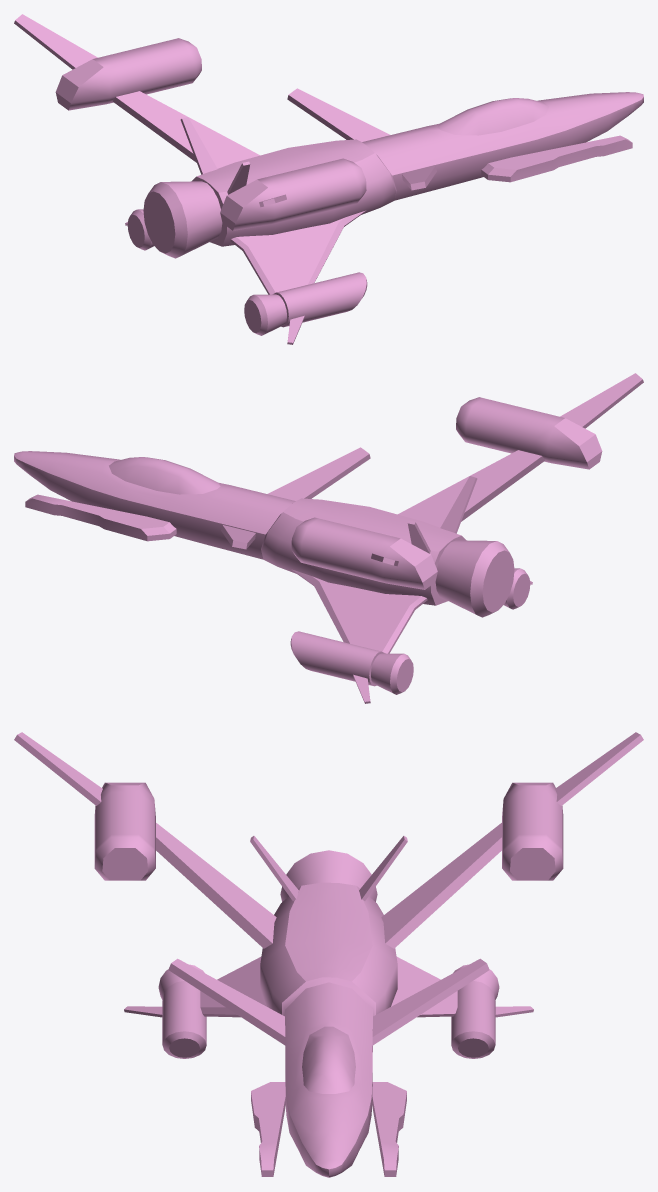
The picture shows the model from 3 angles, top to bottom: view 1: azimuth 30°, elevation 25°; view 2: azimuth 150°, elevation 25°; view 3: azimuth 270°, elevation 25°; orthographic projection. The views are drawn at different scales.
Visible parts, largest first — view 1: StarSparrow10; view 2: StarSparrow10; view 3: StarSparrow10.
Boxes of the visible parts, x1=… form: StarSparrow10: x1=14, y1=14, x2=643, y2=344; StarSparrow10: x1=14, y1=373, x2=643, y2=703; StarSparrow10: x1=14, y1=732, x2=643, y2=1177.
Bounding box in the file's own units: 445 × 167 × 388.
